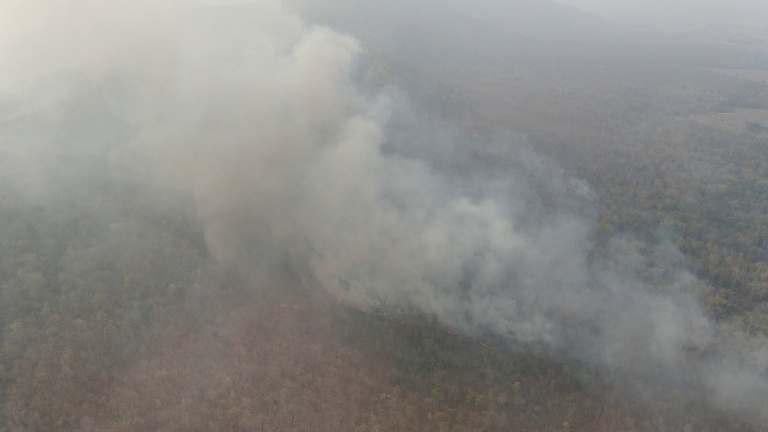fire: (338, 295, 412, 325), (442, 329, 498, 352)
smoke: (43, 5, 431, 303), (409, 177, 728, 391)
